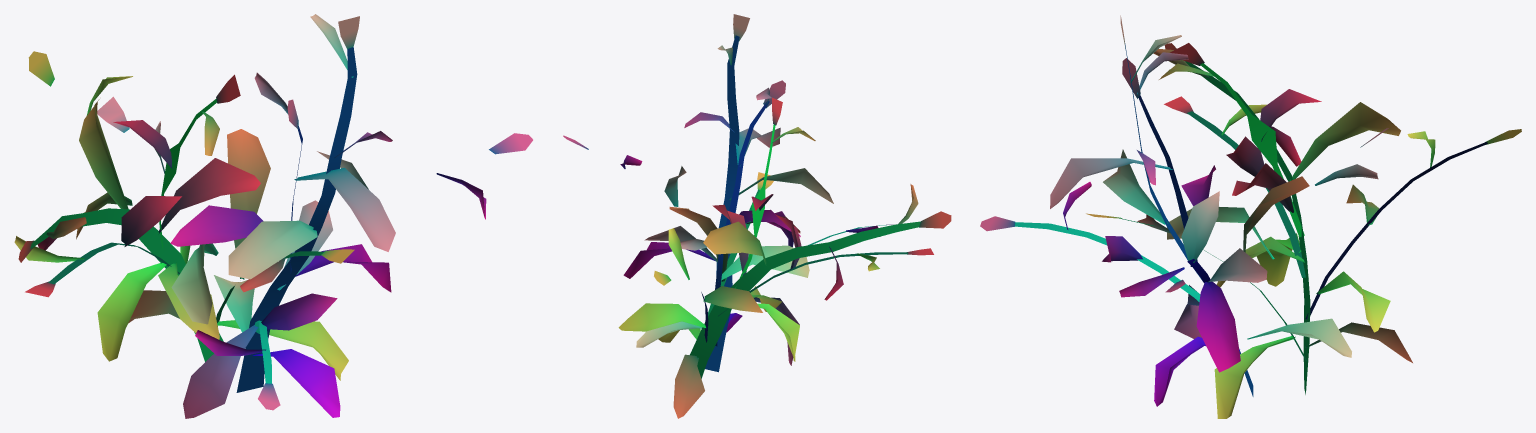
Rendered from Field_Poppy_vmcobd0ja_Low_vmcobd0ja_VarG_LOD1.fbx.
3 renders of one model, left to right at view 1: azimuth 30°, elevation 25°; view 2: azimuth 150°, elevation 25°; view 3: azimuth 270°, elevation 25°, orthographic. The views are drawn at different scales.
Visible parts, largest first — view 1: _cj63_VarG_LOD3; view 2: _cj63_VarG_LOD3; view 3: _cj63_VarG_LOD3.
Part boxes in pixels (x1,y1,x2,y2): _cj63_VarG_LOD3: (14,14,532,418); _cj63_VarG_LOD3: (563,14,951,418); _cj63_VarG_LOD3: (980,15,1521,418).
Size of the model in its own units: 52.32 by 40.56 by 51.34.
